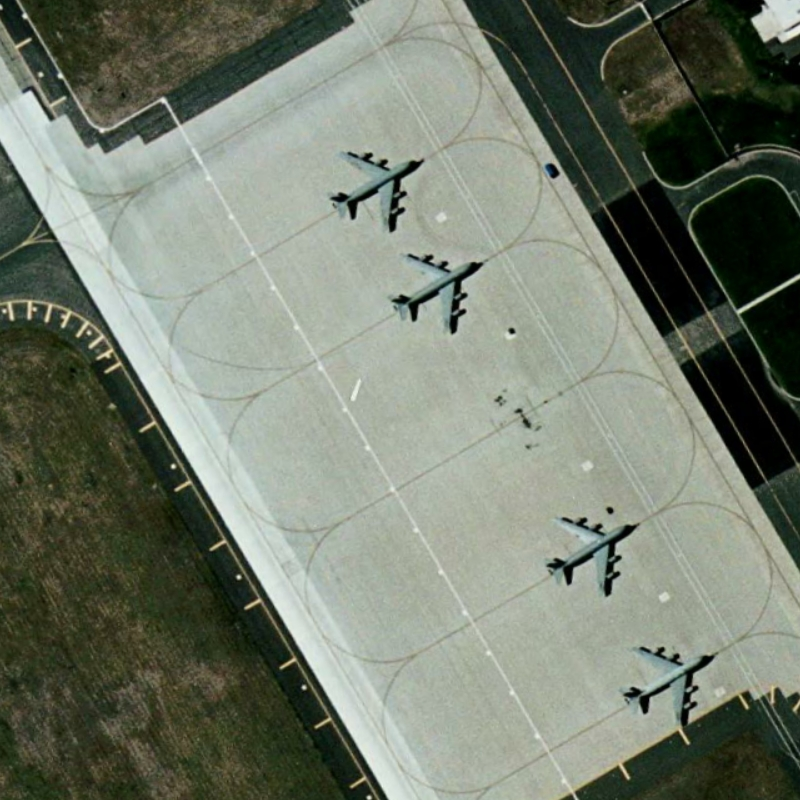A14: (323, 142, 428, 237), (535, 509, 642, 600), (618, 639, 718, 733), (386, 246, 484, 340)
